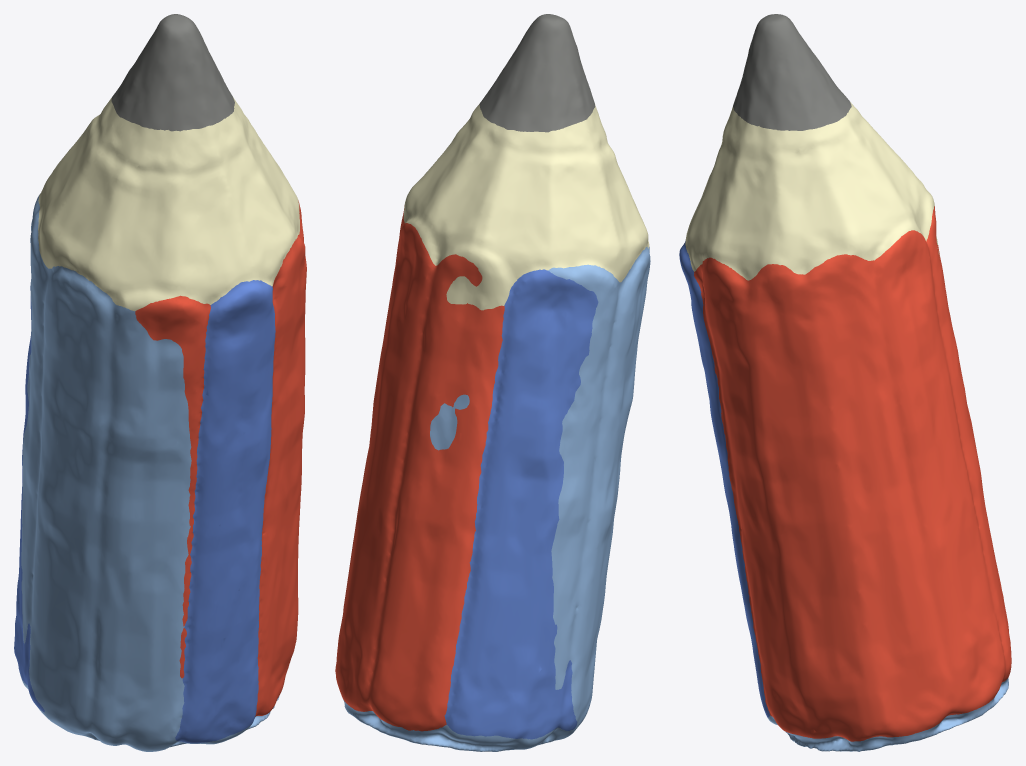
Rendered from Stack 6A - Pencil.glb.
3 views of the same model, side by side, from view 1: azimuth 30°, elevation 25°; view 2: azimuth 150°, elevation 25°; view 3: azimuth 270°, elevation 25° (orthographic). The views are drawn at different scales.
Parts seen in each view (by area): view 1: Stack 6A - Pencil · mesh; view 2: Stack 6A - Pencil · mesh; view 3: Stack 6A - Pencil · mesh.
Part boxes in pixels (box(x1,y1,x2,y2)): Stack 6A - Pencil · mesh: box(14, 14, 306, 751); Stack 6A - Pencil · mesh: box(335, 14, 650, 751); Stack 6A - Pencil · mesh: box(679, 14, 1011, 751).
Size of the model in its own units: 0.3789 by 1 by 0.4395.
